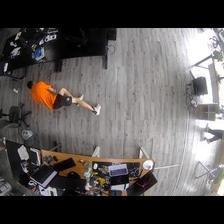fall: (27, 80, 102, 118)
